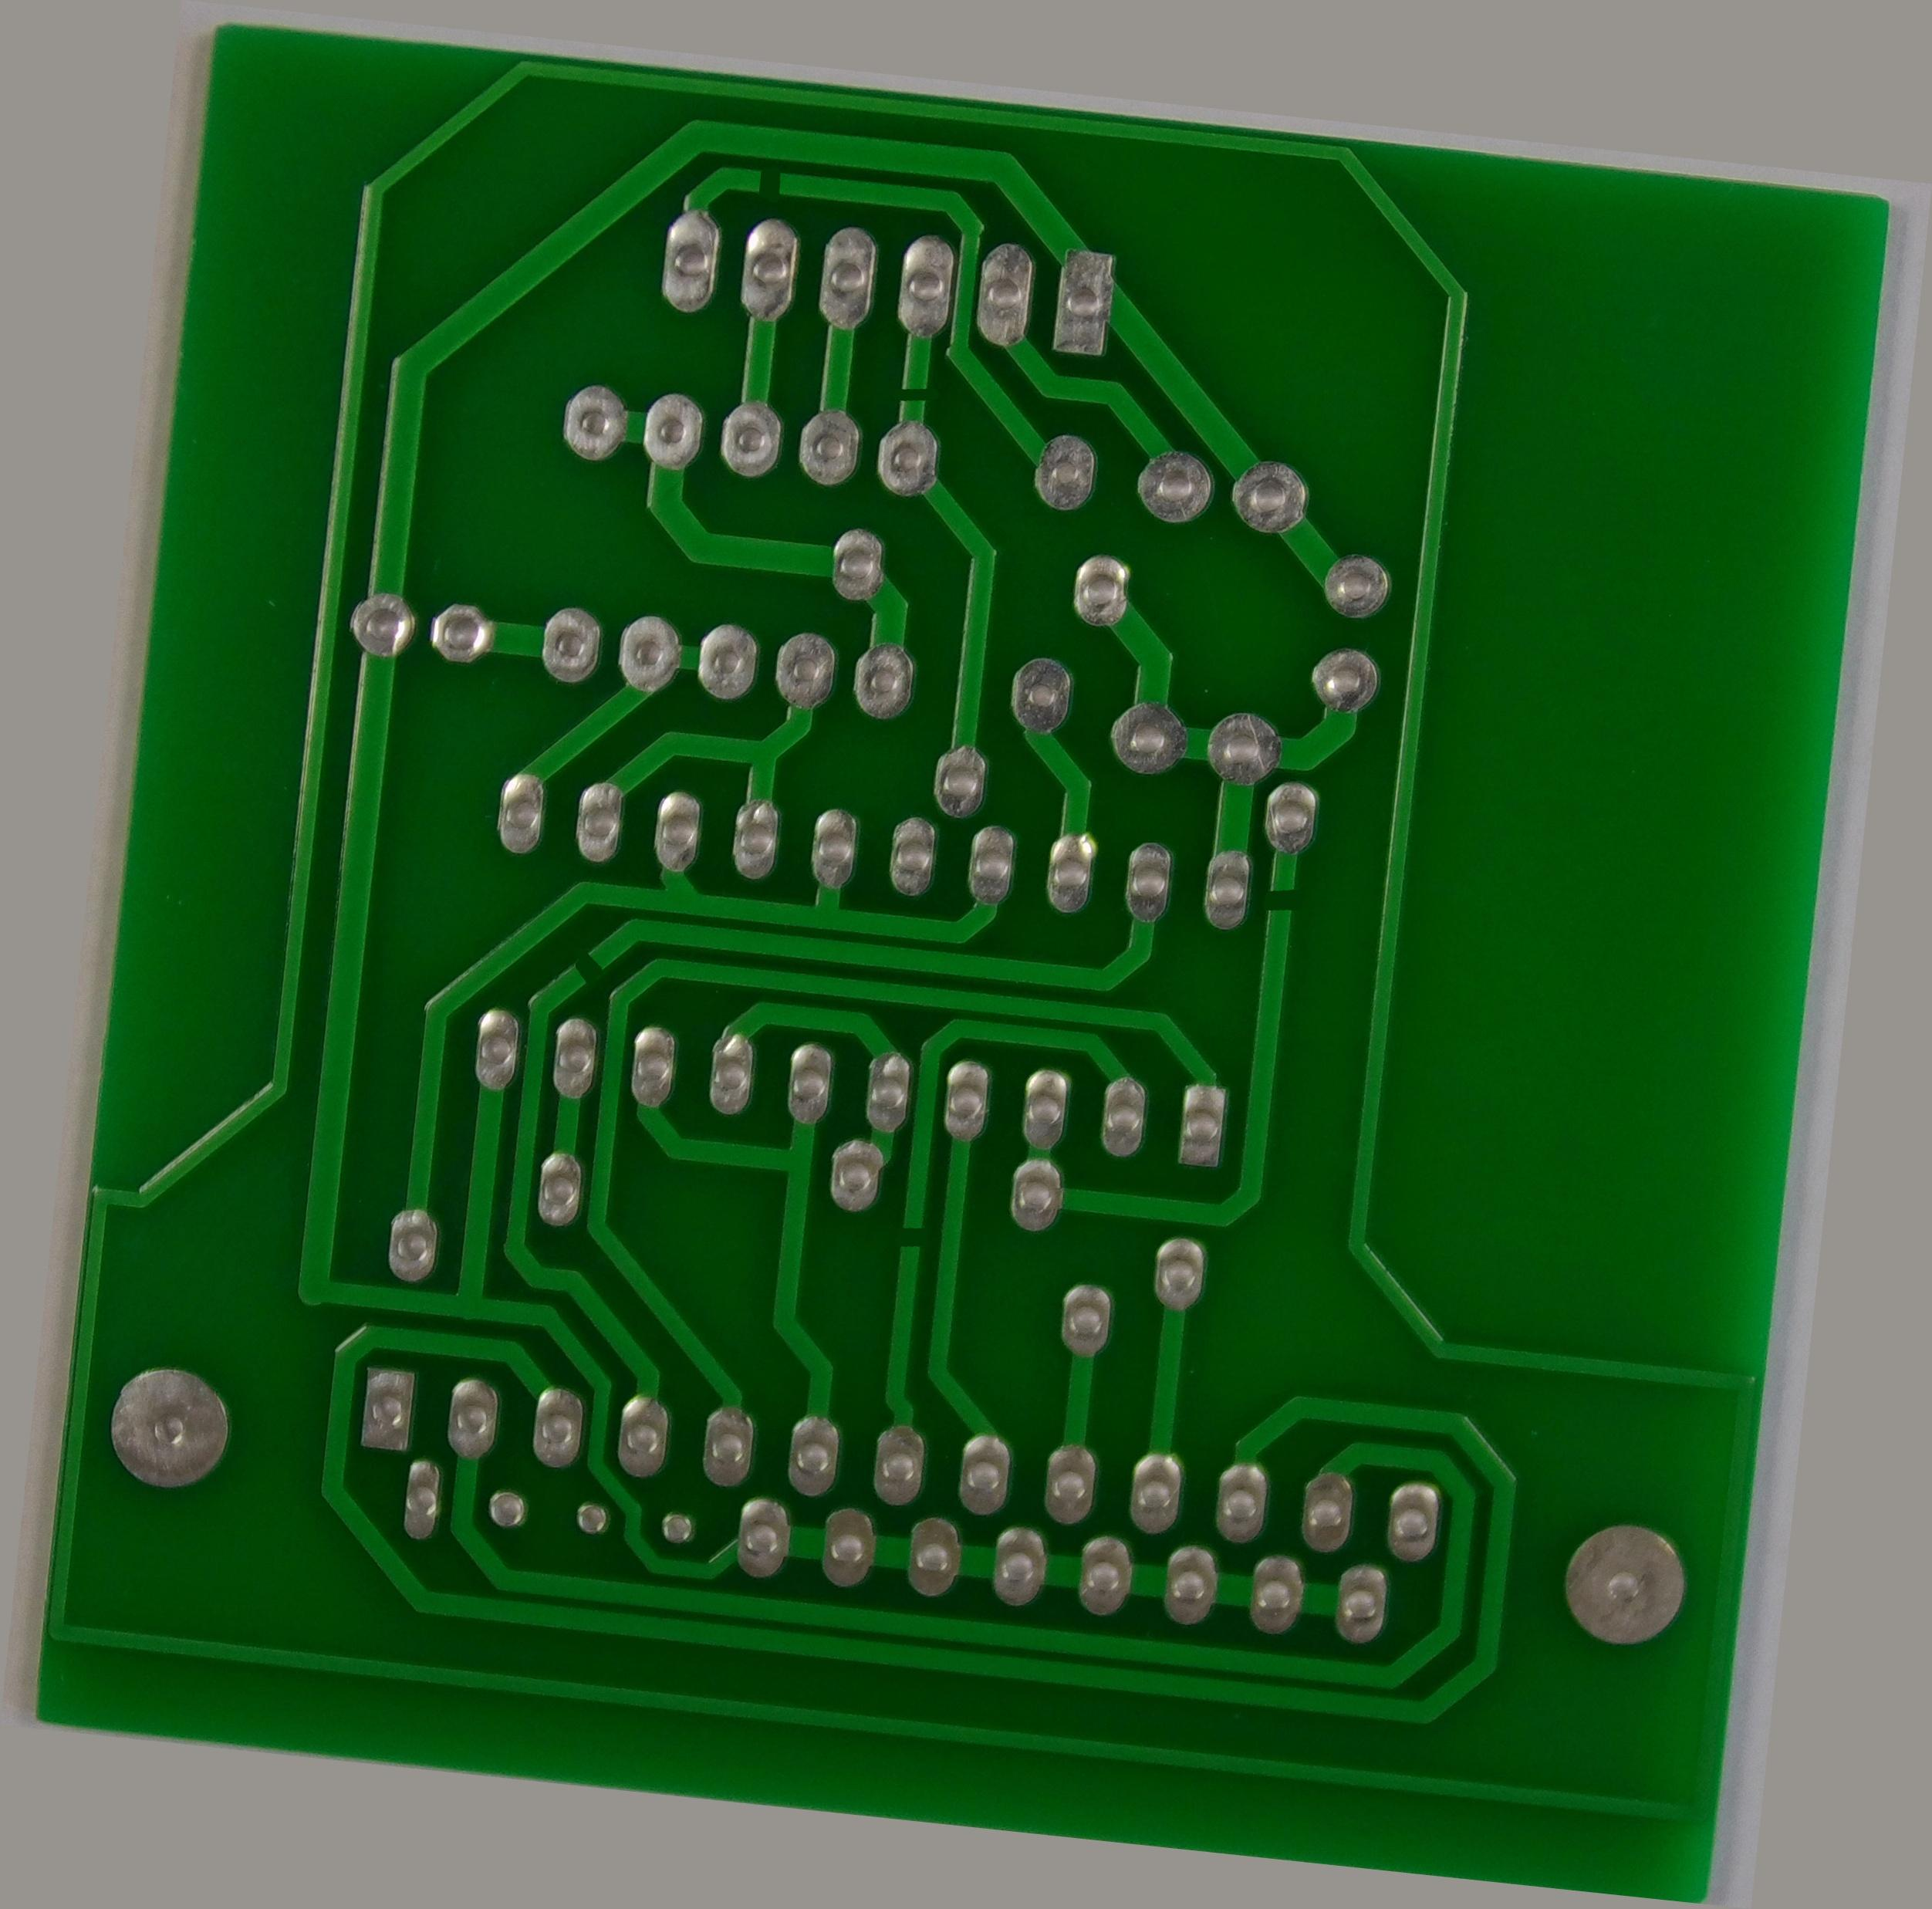open_circuit: (1276, 823, 1331, 893), (528, 984, 577, 1044), (913, 1245, 962, 1295), (636, 105, 684, 157), (820, 325, 867, 369)
